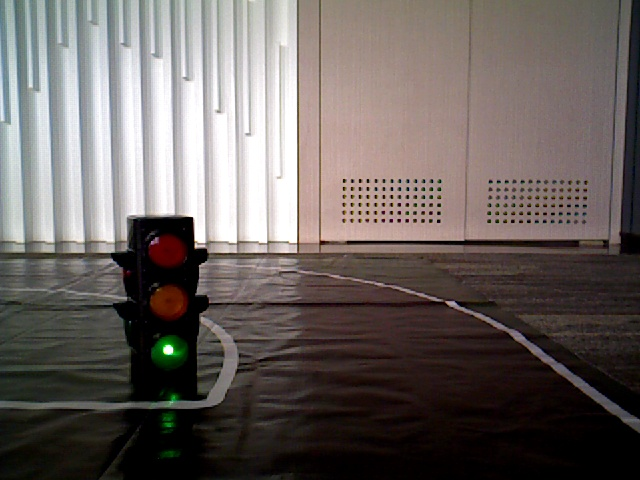green: (131, 225, 195, 376)
